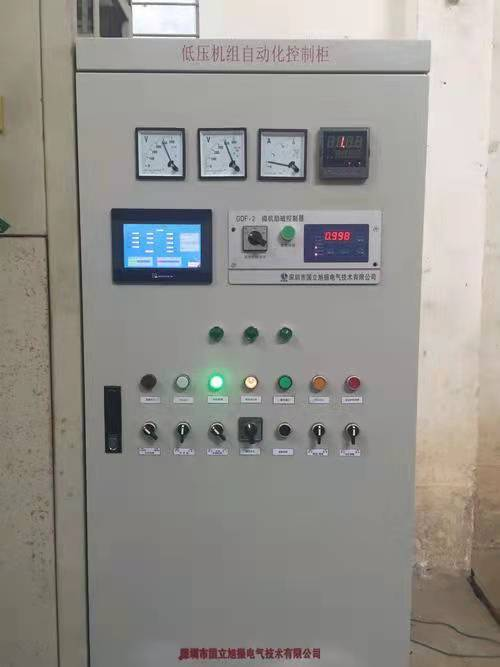pointer: (137, 128, 184, 177), (199, 130, 245, 176), (260, 131, 305, 178)
